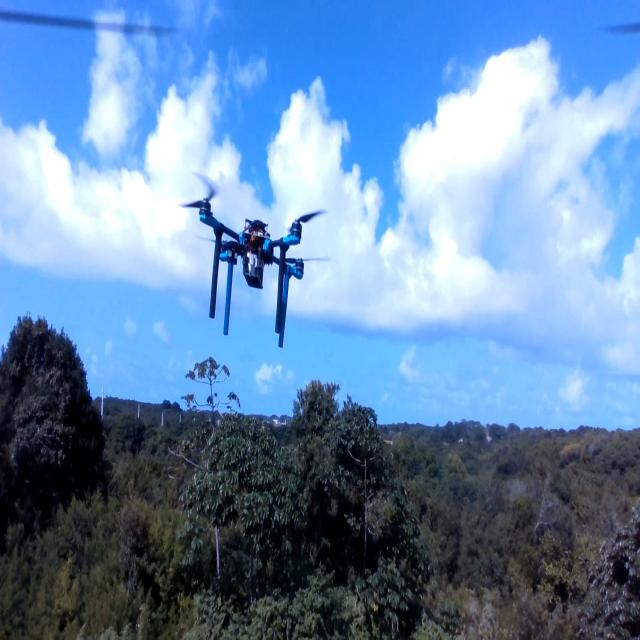-uav-: (168, 158, 334, 346)
